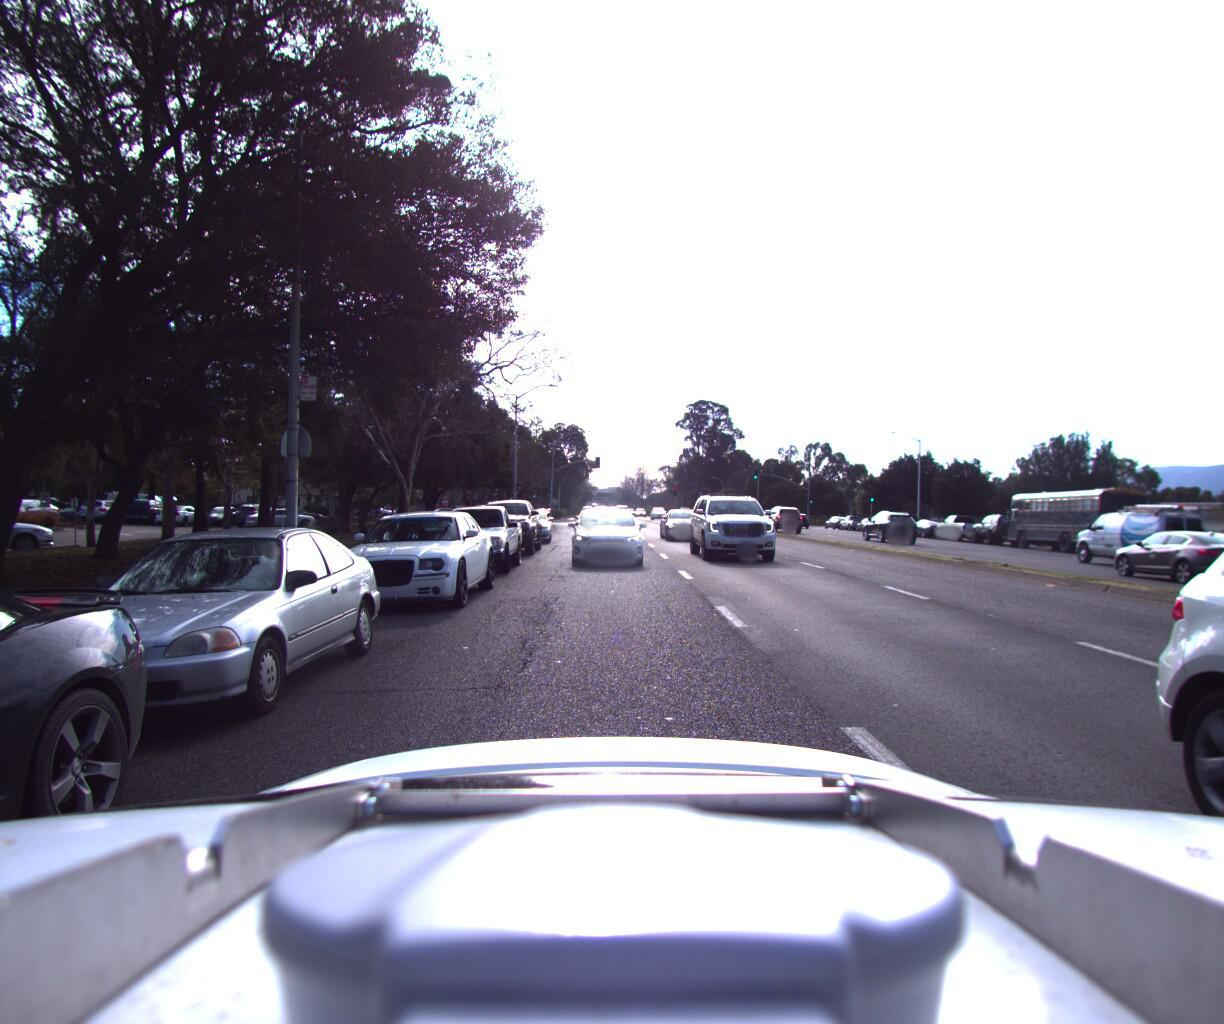bus: (995, 480, 1157, 560)
car: (0, 507, 395, 766), (0, 518, 195, 1024), (317, 501, 500, 621), (1057, 511, 1224, 587), (1050, 495, 1195, 568), (422, 492, 527, 580), (688, 481, 794, 565), (1103, 520, 1224, 570), (566, 498, 649, 568), (466, 493, 544, 559), (960, 510, 1024, 545), (505, 504, 555, 545), (927, 510, 991, 542), (852, 508, 915, 540), (659, 504, 711, 541), (1189, 526, 1224, 577), (759, 503, 803, 529), (833, 513, 868, 530)
